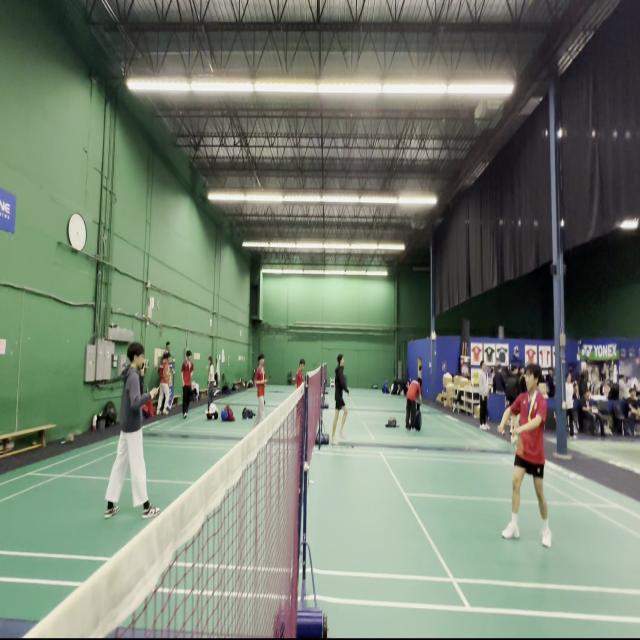shuttlecock: (510, 434, 517, 446)
